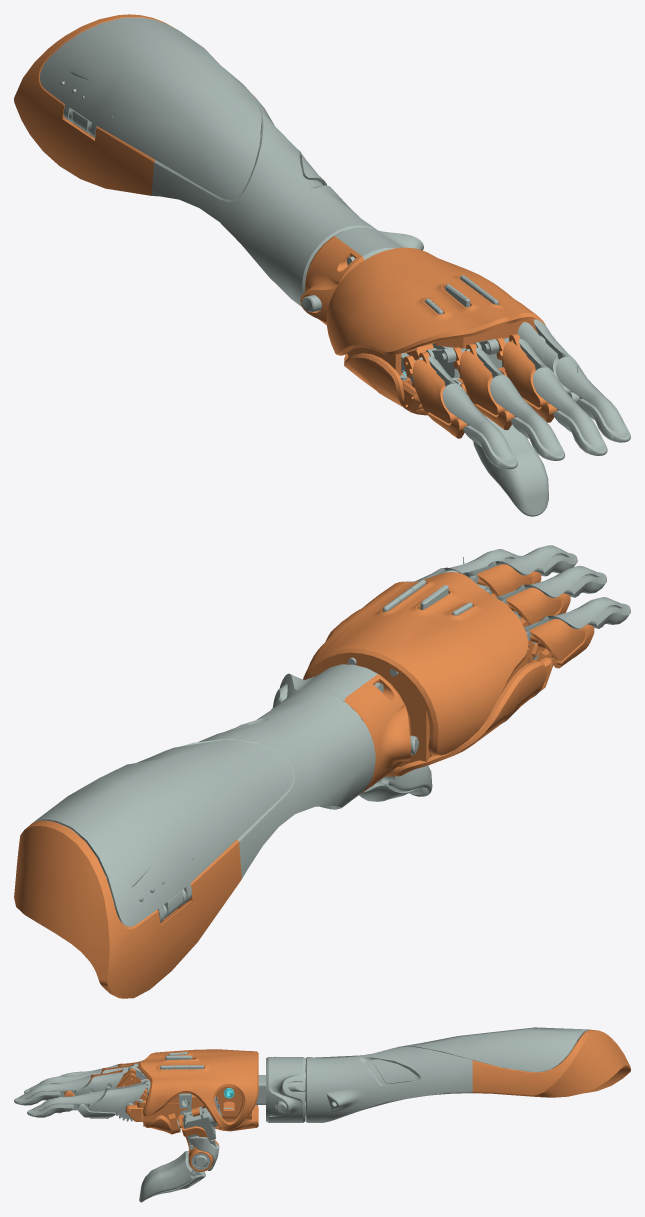
Rendered from after.glb.
3 views of the same model, one above another, from view 1: azimuth 30°, elevation 25°; view 2: azimuth 150°, elevation 25°; view 3: azimuth 270°, elevation 25° (orthographic). The views are drawn at different scales.
Visible parts, largest first — view 1: /HACKberry_R_v16/R-SO_v12/R-SO-07_v2, /HACKberry_R_v16/R-H_v26/R-H-15_v2, /HACKberry_R_v16/R-SO_v12/R-SO-02_v2, /HACKberry_R_v16/R-SO_v12/R-SO-01_v2, /HACKberry_R_v16/R-H_v26/R-O_v6/R-O-01_v1 (×3), /HACKberry_R_v16/R-H_v26/R-O_v6/R-O-02_v3 (×3), /HACKberry_R_v16/R-H_v26/R-T_v7/R-T-01_v1, /HACKberry_R_v16/R-H_v26/R-H-02_v2, /HACKberry_R_v16/R-W_v7/R-W-08_v2, /HACKberry_R_v16/R-H_v26/R-I_v7/R-I-01_v1, /HACKberry_R_v16/R-W_v7/R-W-02_v2, /HACKberry_R_v16/R-H_v26/R-I_v7/R-I-02_v1 (+1 smaller); view 2: /HACKberry_R_v16/R-SO_v12/R-SO-07_v2, /HACKberry_R_v16/R-H_v26/R-H-15_v2, /HACKberry_R_v16/R-SO_v12/R-SO-01_v2, /HACKberry_R_v16/R-SO_v12/R-SO-02_v2, /HACKberry_R_v16/R-H_v26/R-H-02_v2, /HACKberry_R_v16/R-H_v26/R-O_v6/R-O-01_v1 (×3), /HACKberry_R_v16/R-W_v7/R-W-08_v2, /HACKberry_R_v16/R-H_v26/R-O_v6/R-O-02_v3 (×3), /HACKberry_R_v16/R-W_v7/R-W-02_v2, /HACKberry_R_v16/R-H_v26/R-T_v7/R-T-01_v1, /HACKberry_R_v16/R-H_v26/R-O_v6/R-O-03_v2, /HACKberry_R_v16/R-H_v26/R-I_v7/R-I-01_v1 (+1 smaller); view 3: /HACKberry_R_v16/R-SO_v12/R-SO-02_v2, /HACKberry_R_v16/R-H_v26/R-H-15_v2, /HACKberry_R_v16/R-SO_v12/R-SO-01_v2, /HACKberry_R_v16/R-SO_v12/R-SO-07_v2, /HACKberry_R_v16/R-W_v7/R-W-02_v2, /HACKberry_R_v16/R-H_v26/R-H-02_v2, /HACKberry_R_v16/R-H_v26/R-T_v7/R-T-01_v1, /HACKberry_R_v16/R-H_v26/R-O_v6/R-O-01_v1 (×2), /HACKberry_R_v16/R-H_v26/R-I_v7/R-I-01_v1, /HACKberry_R_v16/R-H_v26/R-I_v7/R-I-04_v1, /HACKberry_R_v16/R-SO_v12/R-SO-05_v2, /HACKberry_R_v16/R-H_v26/R-T_v7/ASV-15MG_v1 (+5 smaller).
Boxes of the visible parts, x1,y1,x2,y2 form: /HACKberry_R_v16/R-SO_v12/R-SO-07_v2: (40, 17, 261, 199); /HACKberry_R_v16/R-H_v26/R-H-15_v2: (326, 247, 545, 385); /HACKberry_R_v16/R-SO_v12/R-SO-02_v2: (152, 98, 373, 306); /HACKberry_R_v16/R-SO_v12/R-SO-01_v2: (14, 14, 255, 195); /HACKberry_R_v16/R-H_v26/R-O_v6/R-O-01_v1 (×3): (442, 367, 607, 469); /HACKberry_R_v16/R-H_v26/R-O_v6/R-O-02_v3 (×3): (412, 341, 548, 423); /HACKberry_R_v16/R-H_v26/R-T_v7/R-T-01_v1: (472, 415, 548, 516); /HACKberry_R_v16/R-H_v26/R-H-02_v2: (344, 344, 507, 415); /HACKberry_R_v16/R-W_v7/R-W-08_v2: (300, 236, 364, 325); /HACKberry_R_v16/R-H_v26/R-I_v7/R-I-01_v1: (555, 357, 630, 442); /HACKberry_R_v16/R-W_v7/R-W-02_v2: (333, 227, 423, 259); /HACKberry_R_v16/R-H_v26/R-I_v7/R-I-02_v1: (517, 322, 571, 392); /HACKberry_R_v16/R-SO_v12/R-SO-07_v2: (33, 739, 293, 926); /HACKberry_R_v16/R-H_v26/R-H-15_v2: (303, 572, 528, 756); /HACKberry_R_v16/R-SO_v12/R-SO-01_v2: (14, 820, 241, 998); /HACKberry_R_v16/R-SO_v12/R-SO-02_v2: (156, 693, 371, 878); /HACKberry_R_v16/R-H_v26/R-H-02_v2: (313, 626, 553, 776); /HACKberry_R_v16/R-H_v26/R-O_v6/R-O-01_v1 (×3): (495, 545, 630, 629); /HACKberry_R_v16/R-W_v7/R-W-08_v2: (344, 674, 411, 794); /HACKberry_R_v16/R-H_v26/R-O_v6/R-O-02_v3 (×3): (477, 564, 585, 661); /HACKberry_R_v16/R-W_v7/R-W-02_v2: (271, 664, 378, 709); /HACKberry_R_v16/R-H_v26/R-T_v7/R-T-01_v1: (359, 765, 432, 801); /HACKberry_R_v16/R-H_v26/R-O_v6/R-O-03_v2: (527, 624, 594, 668); /HACKberry_R_v16/R-H_v26/R-I_v7/R-I-01_v1: (444, 549, 521, 573); /HACKberry_R_v16/R-SO_v12/R-SO-02_v2: (311, 1046, 472, 1122); /HACKberry_R_v16/R-H_v26/R-H-15_v2: (137, 1049, 258, 1130); /HACKberry_R_v16/R-SO_v12/R-SO-01_v2: (460, 1029, 630, 1097); /HACKberry_R_v16/R-SO_v12/R-SO-07_v2: (398, 1027, 589, 1071); /HACKberry_R_v16/R-W_v7/R-W-02_v2: (266, 1057, 305, 1122); /HACKberry_R_v16/R-H_v26/R-H-02_v2: (125, 1080, 258, 1134); /HACKberry_R_v16/R-H_v26/R-T_v7/R-T-01_v1: (139, 1151, 205, 1202); /HACKberry_R_v16/R-H_v26/R-O_v6/R-O-01_v1 (×2): (14, 1068, 101, 1105); /HACKberry_R_v16/R-H_v26/R-I_v7/R-I-01_v1: (27, 1089, 104, 1117); /HACKberry_R_v16/R-H_v26/R-I_v7/R-I-04_v1: (88, 1084, 146, 1112); /HACKberry_R_v16/R-SO_v12/R-SO-05_v2: (372, 1059, 417, 1084); /HACKberry_R_v16/R-H_v26/R-T_v7/ASV-15MG_v1: (183, 1106, 217, 1144).
Bounding box in the file's own units: 0.0869 × 0.1305 × 0.4691.
